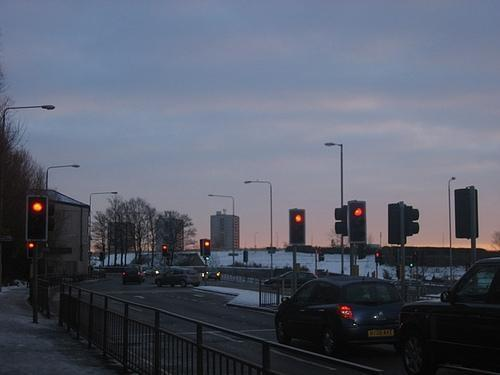car: (400, 257, 500, 375), (275, 273, 406, 357), (263, 270, 318, 289), (154, 268, 201, 288), (122, 268, 142, 284), (205, 268, 221, 282), (143, 268, 160, 274)
truck: (400, 256, 500, 366)
